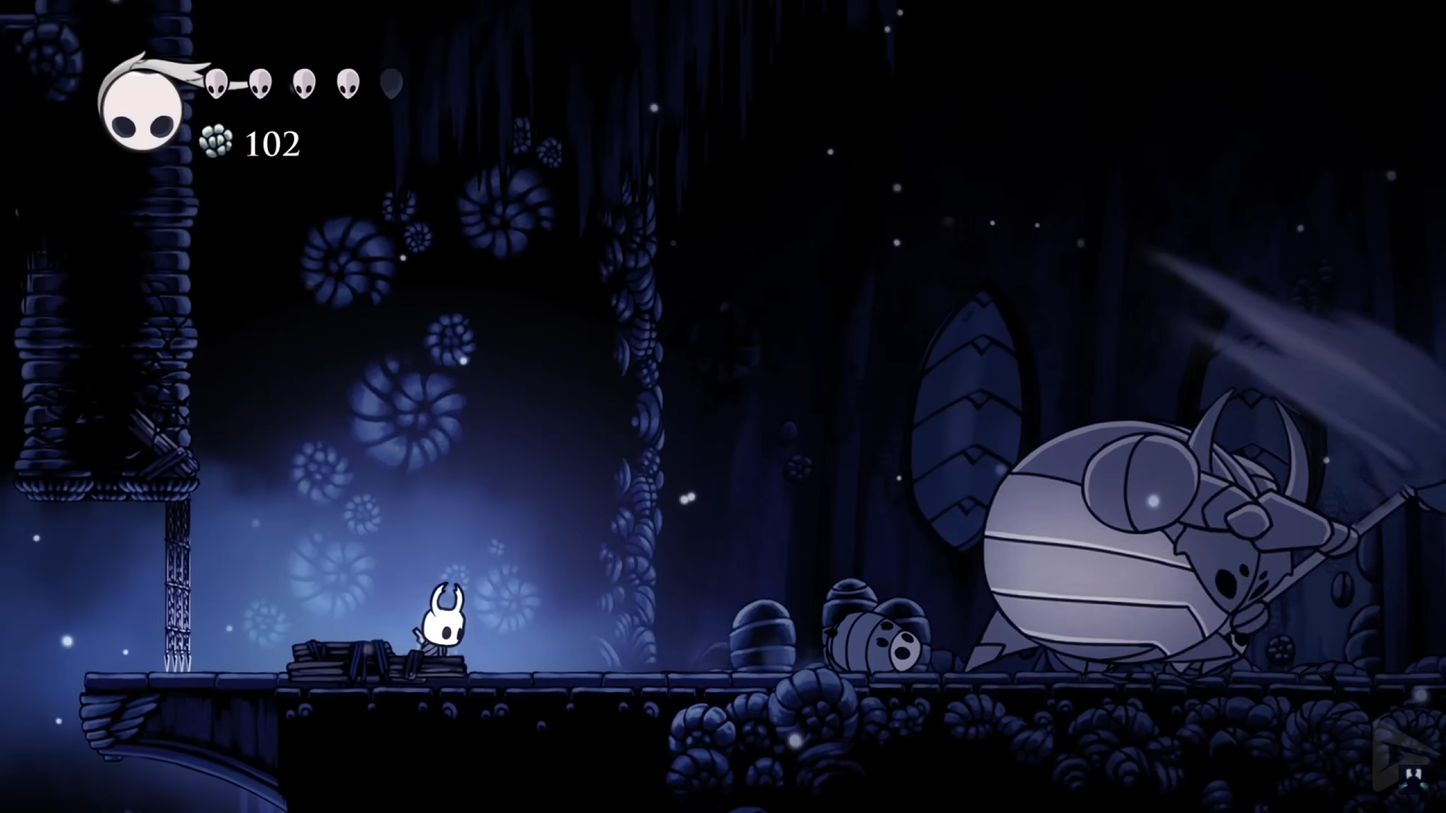HK: (410, 579, 471, 673)
